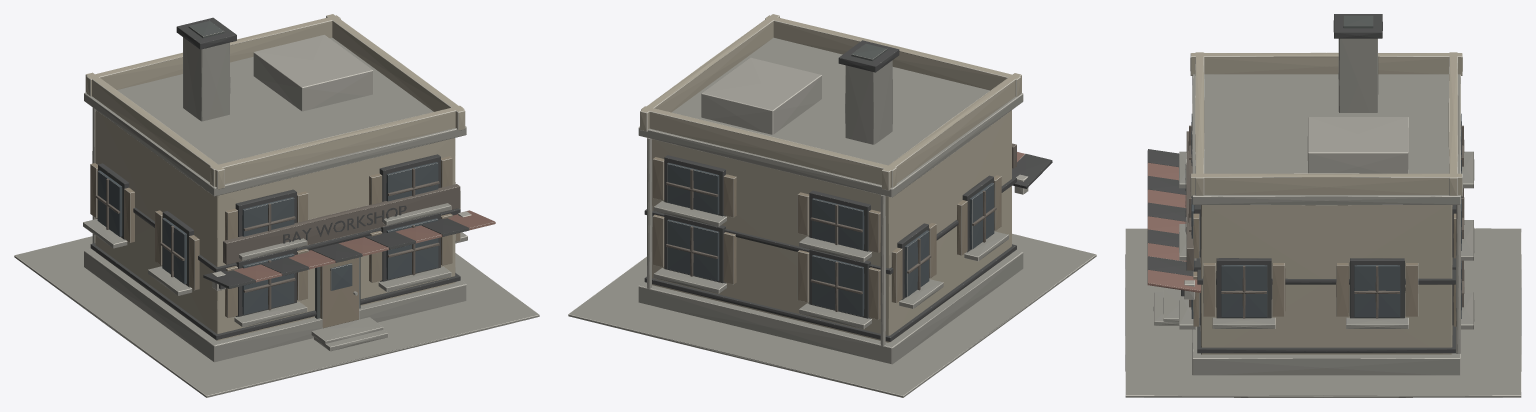
File: district_art_1.glb
3 views of the same model, side by side, from view 1: azimuth 30°, elevation 25°; view 2: azimuth 150°, elevation 25°; view 3: azimuth 270°, elevation 25° (orthographic). The views are drawn at different scales.
Parts seen in each view (by area): view 1: stone, plaster, trim, glass, wood, metal, timber, cloth, dark; view 2: stone, plaster, glass, trim, metal, wood, timber; view 3: stone, plaster, trim, metal, glass, wood, cloth, timber, dark.
Part boxes in pixels (x1,y1,x2,y2): stone: [14, 37, 539, 397]; plaster: [85, 14, 465, 340]; trim: [90, 17, 469, 339]; glass: [97, 162, 438, 314]; wood: [90, 156, 460, 328]; metal: [92, 35, 471, 295]; timber: [95, 168, 460, 310]; cloth: [234, 210, 495, 282]; dark: [188, 21, 360, 318]; stone: [568, 37, 1096, 397]; plaster: [640, 14, 1021, 342]; glass: [667, 162, 994, 316]; trim: [644, 40, 1052, 341]; metal: [647, 57, 1028, 345]; wood: [652, 157, 1001, 319]; timber: [666, 143, 1016, 311]; stone: [1125, 38, 1521, 397]; plaster: [1190, 52, 1462, 354]; trim: [1147, 14, 1456, 353]; metal: [1184, 117, 1461, 353]; glass: [1191, 113, 1461, 318]; wood: [1193, 213, 1456, 326]; cloth: [1147, 162, 1201, 292]; timber: [1186, 125, 1464, 318]; dark: [1343, 15, 1373, 28].
Bounding box in the file's own units: 12.5 × 9.29 × 12.5.
